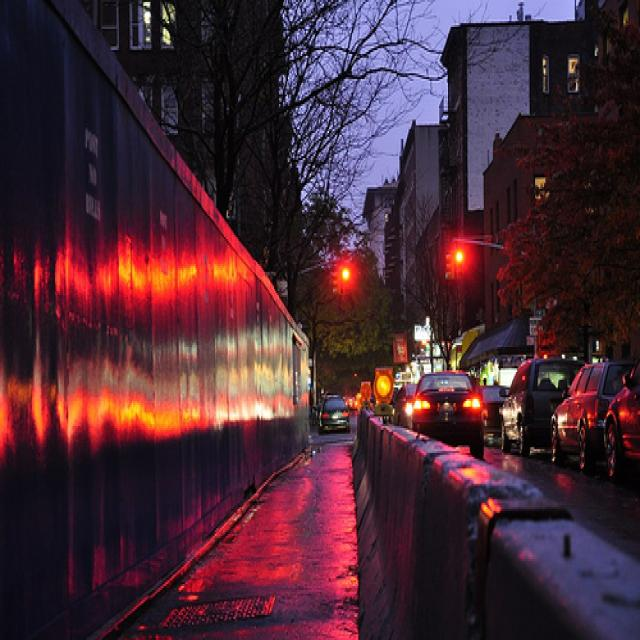Vehicle: (549, 359, 639, 477), (500, 359, 586, 456), (412, 370, 483, 458), (604, 363, 640, 460), (392, 384, 434, 431), (477, 386, 502, 436), (319, 396, 350, 434), (391, 387, 400, 410)
